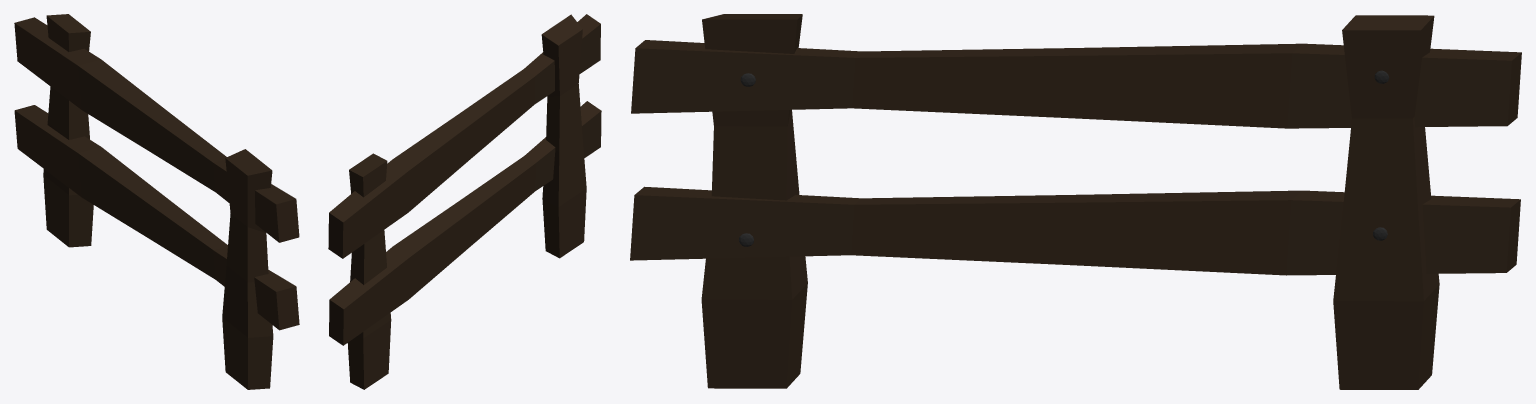
Rendered from Valla.fbx.
3 views of the same model, side by side, from view 1: azimuth 30°, elevation 25°; view 2: azimuth 150°, elevation 25°; view 3: azimuth 270°, elevation 25° (orthographic). The views are drawn at different scales.
Parts seen in each view (by area): view 1: Esfera geodésica.001; view 2: Esfera geodésica.001; view 3: Esfera geodésica.001.
Part boxes in pixels (box(x1,y1,x2,y2)): Esfera geodésica.001: box(14, 14, 299, 389); Esfera geodésica.001: box(328, 14, 601, 389); Esfera geodésica.001: box(630, 14, 1521, 389).
Size of the model in its own units: 23.35 by 160 by 350.
